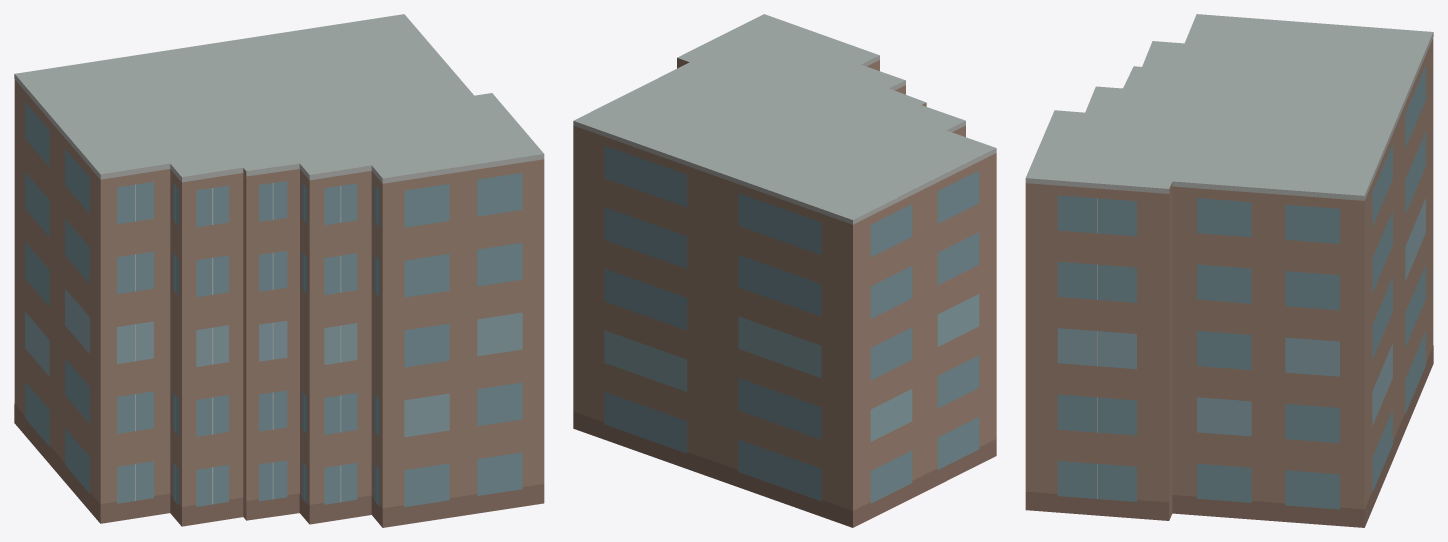
File: survey-upis-32668510.glb
The picture shows the model from 3 angles, left to right: view 1: azimuth 30°, elevation 25°; view 2: azimuth 150°, elevation 25°; view 3: azimuth 270°, elevation 25°; orthographic projection. The views are drawn at different scales.
Parts seen in each view (by area): view 1: survey-upis-32668510.tmp; view 2: survey-upis-32668510.tmp; view 3: survey-upis-32668510.tmp.
Part boxes in pixels (x1,y1,x2,y2): survey-upis-32668510.tmp: [14, 14, 544, 527]; survey-upis-32668510.tmp: [573, 14, 996, 527]; survey-upis-32668510.tmp: [1025, 14, 1433, 527].
Bounding box in the file's own units: 19.05 × 16.2 × 18.05.
